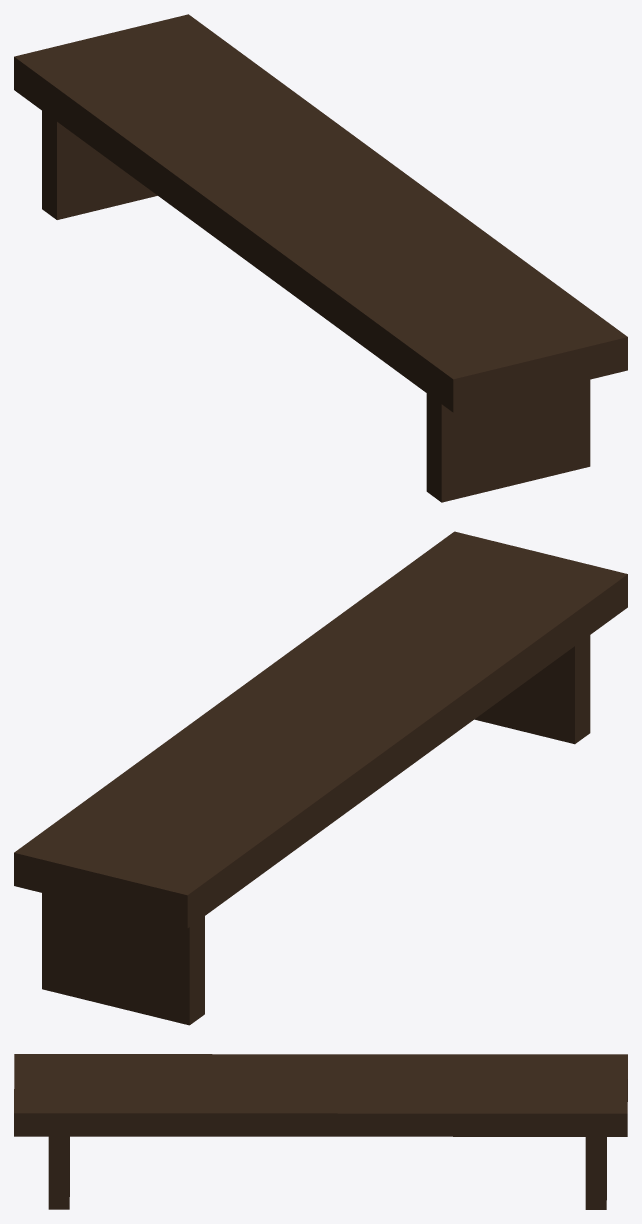
The model's file is bench_1_mat.fbx.
3 renders of one model, top to bottom at view 1: azimuth 30°, elevation 25°; view 2: azimuth 150°, elevation 25°; view 3: azimuth 270°, elevation 25°, orthographic. The views are drawn at different scales.
Parts seen in each view (by area): view 1: bench_1_mat; view 2: bench_1_mat; view 3: bench_1_mat.
Part boxes in pixels (left/top/right/bottom): bench_1_mat: left=14, top=14, right=627, bottom=502; bench_1_mat: left=14, top=531, right=627, bottom=1025; bench_1_mat: left=14, top=1054, right=627, bottom=1209.
Size of the model in its own units: 23.01 by 18.12 by 100.
